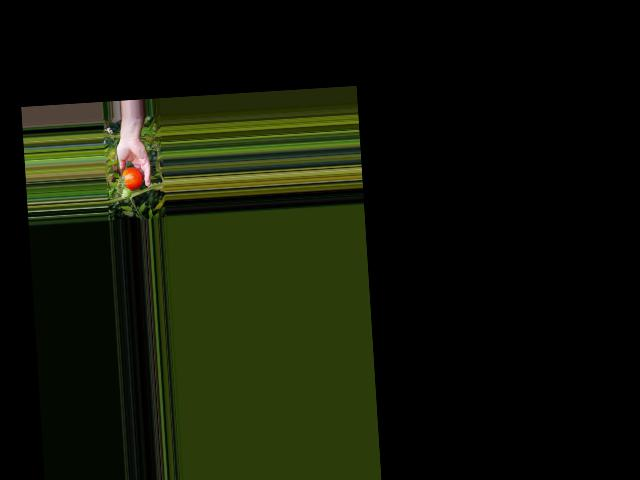tomato: (121, 166, 143, 191)
